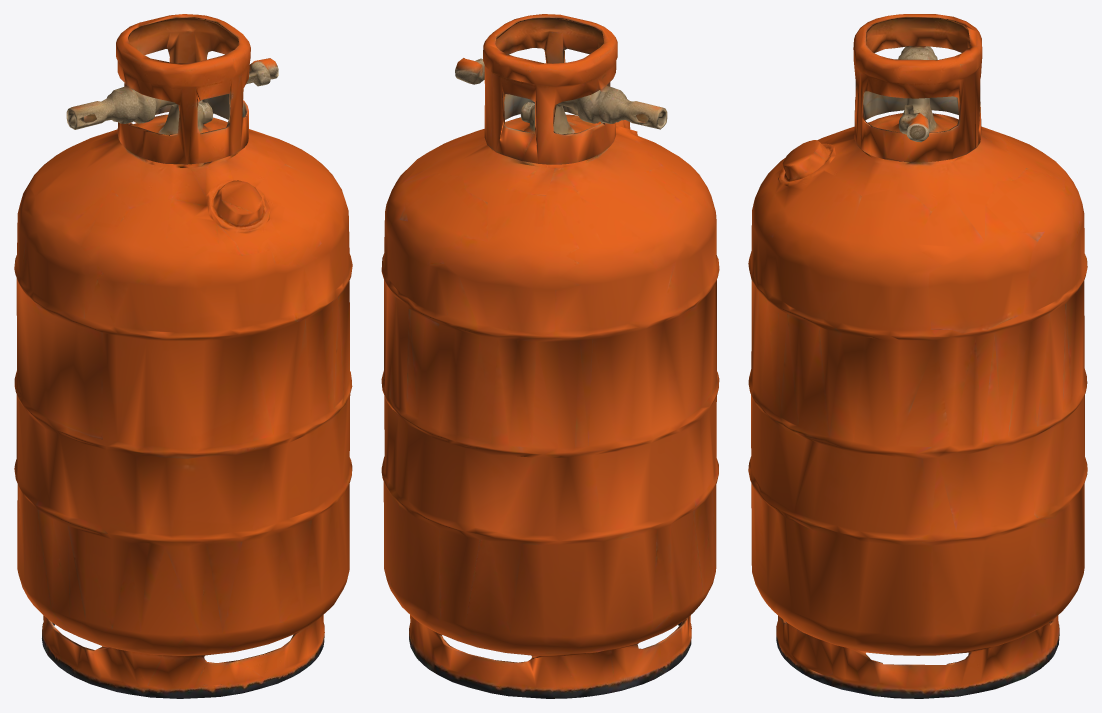
File: fv_gas_cylinder.glb
3 views of the same model, side by side, from view 1: azimuth 30°, elevation 25°; view 2: azimuth 150°, elevation 25°; view 3: azimuth 270°, elevation 25° (orthographic).
Parts seen in each view (by area): view 1: fv_gas_cylinder; view 2: fv_gas_cylinder; view 3: fv_gas_cylinder.
Part boxes in pixels (bbox=[...]): fv_gas_cylinder: bbox=[14, 14, 352, 698]; fv_gas_cylinder: bbox=[381, 14, 719, 698]; fv_gas_cylinder: bbox=[748, 14, 1087, 698].
Bounding box in the file's own units: 0.4342 × 0.85 × 0.4342.
Materials: 1 (1 with a texture image).
